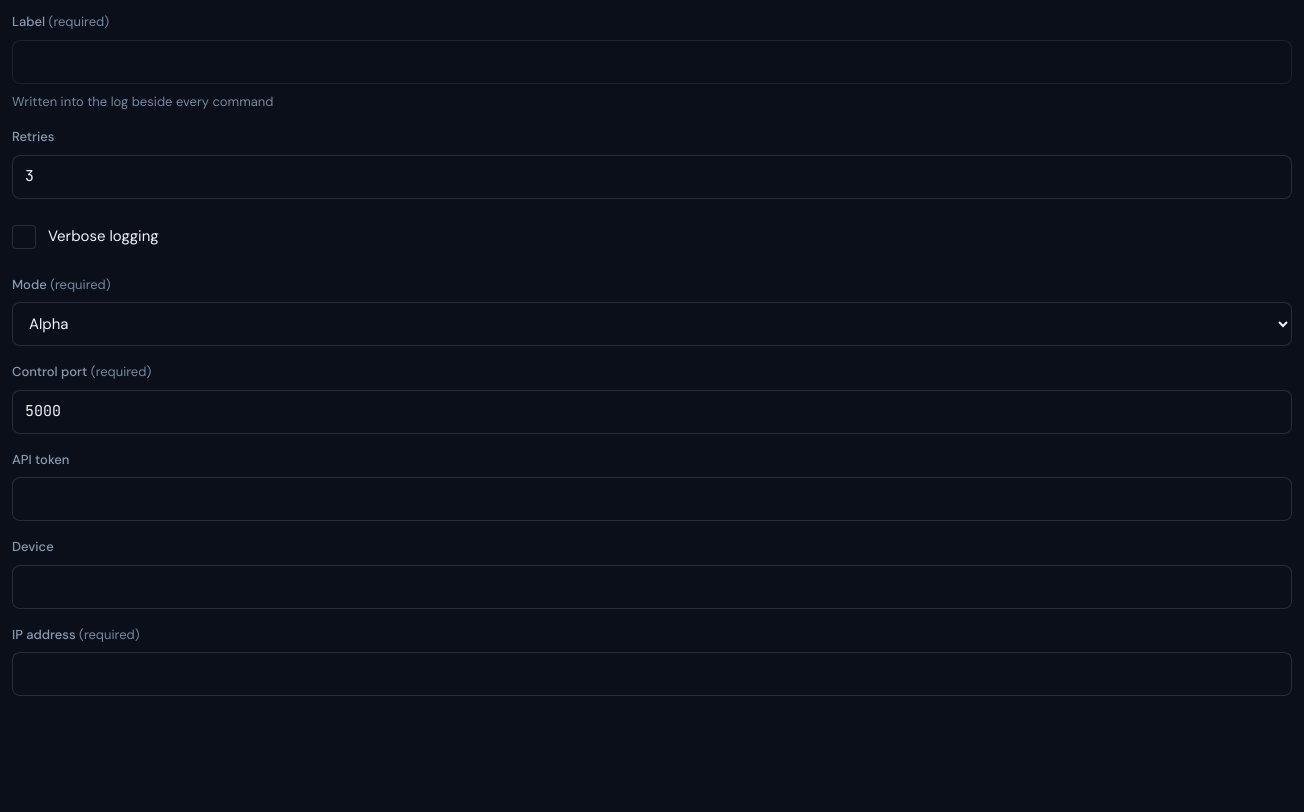
Test: SchemaForm — a fabricated driver schema › shows and hides a dependent field as depends_on is satisfied
Expected: the field labelled "Beta window" is not shown
Select "Beta" in the dropdown labelled "Mode (required)": point(652, 324) [12,302,1292,346]
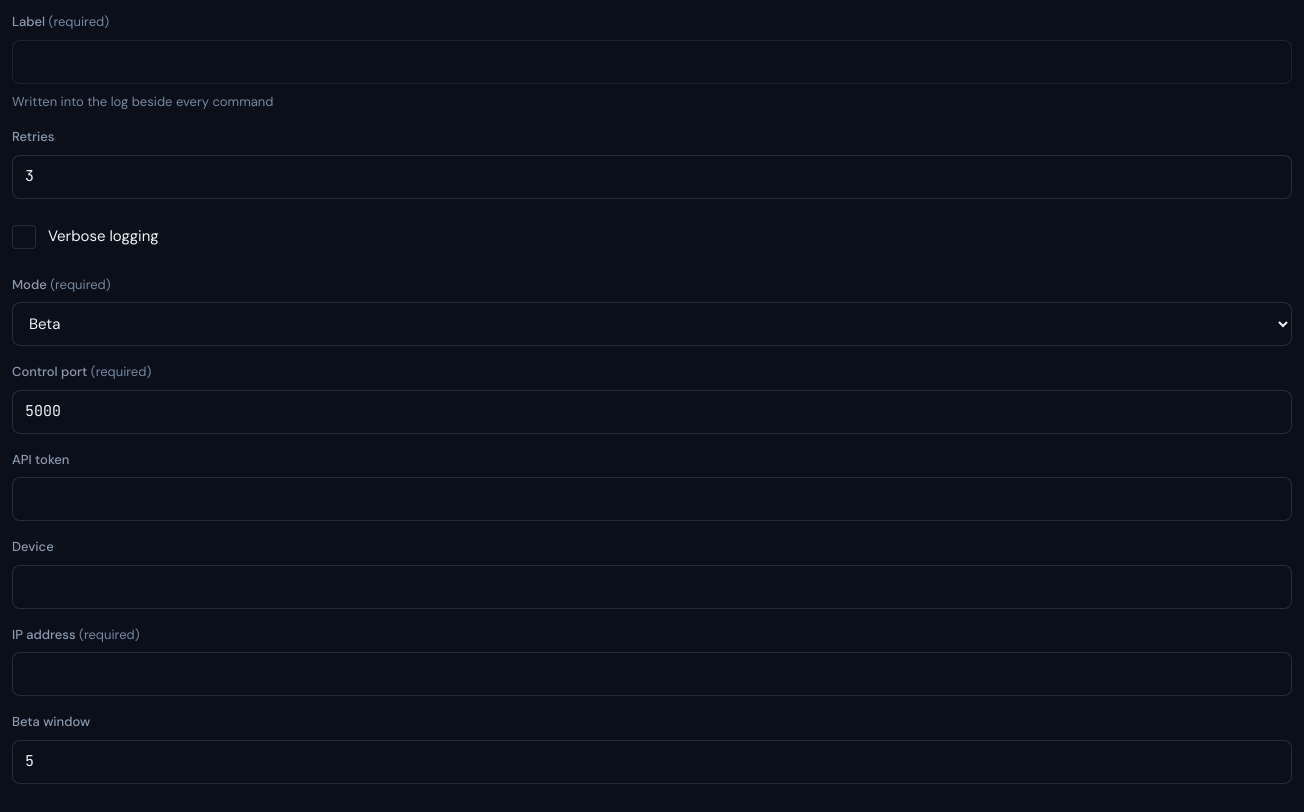
Expected: the number field labelled "Beta window" is shown, [12,740,1292,784]
Select "Alpha" in the dropdown labelled "Mode (required)": point(652, 324) [12,302,1292,346]
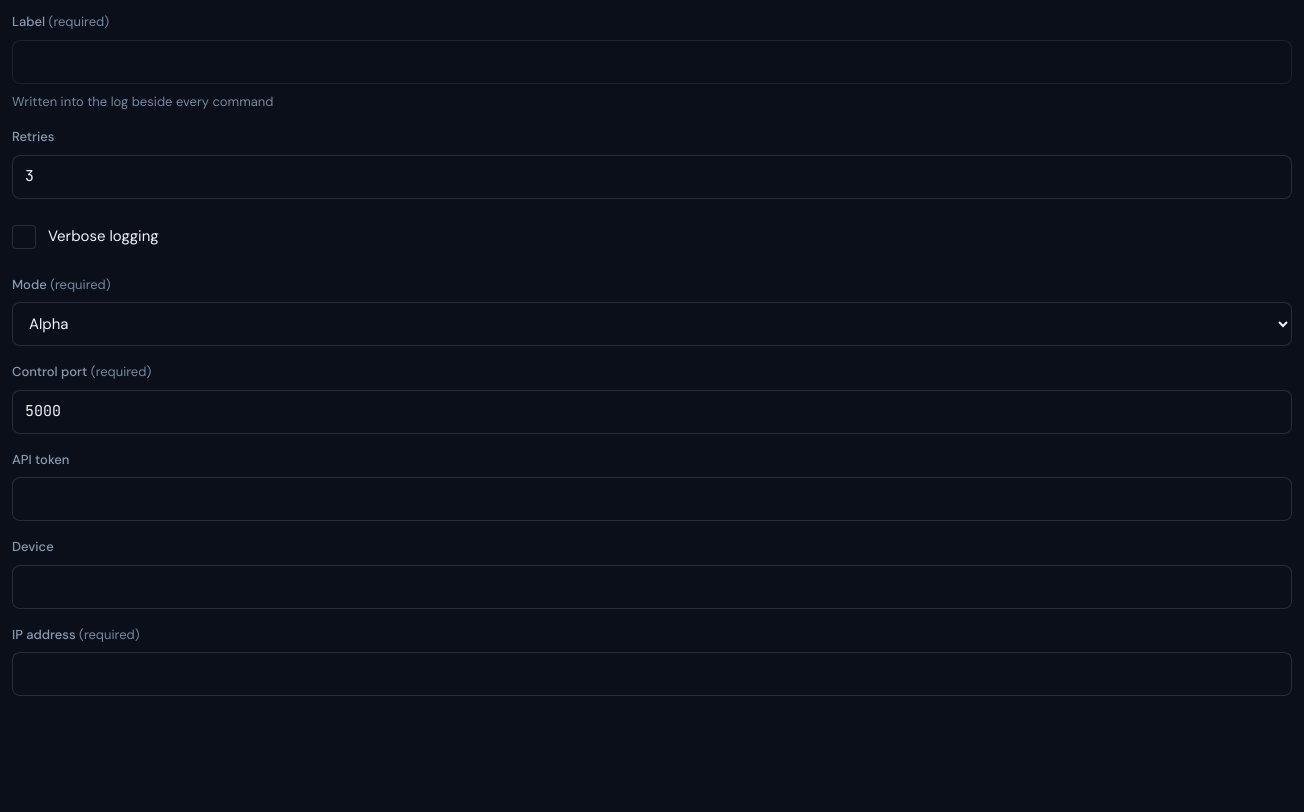
Expected: the label labelled "Beta window" is gone
